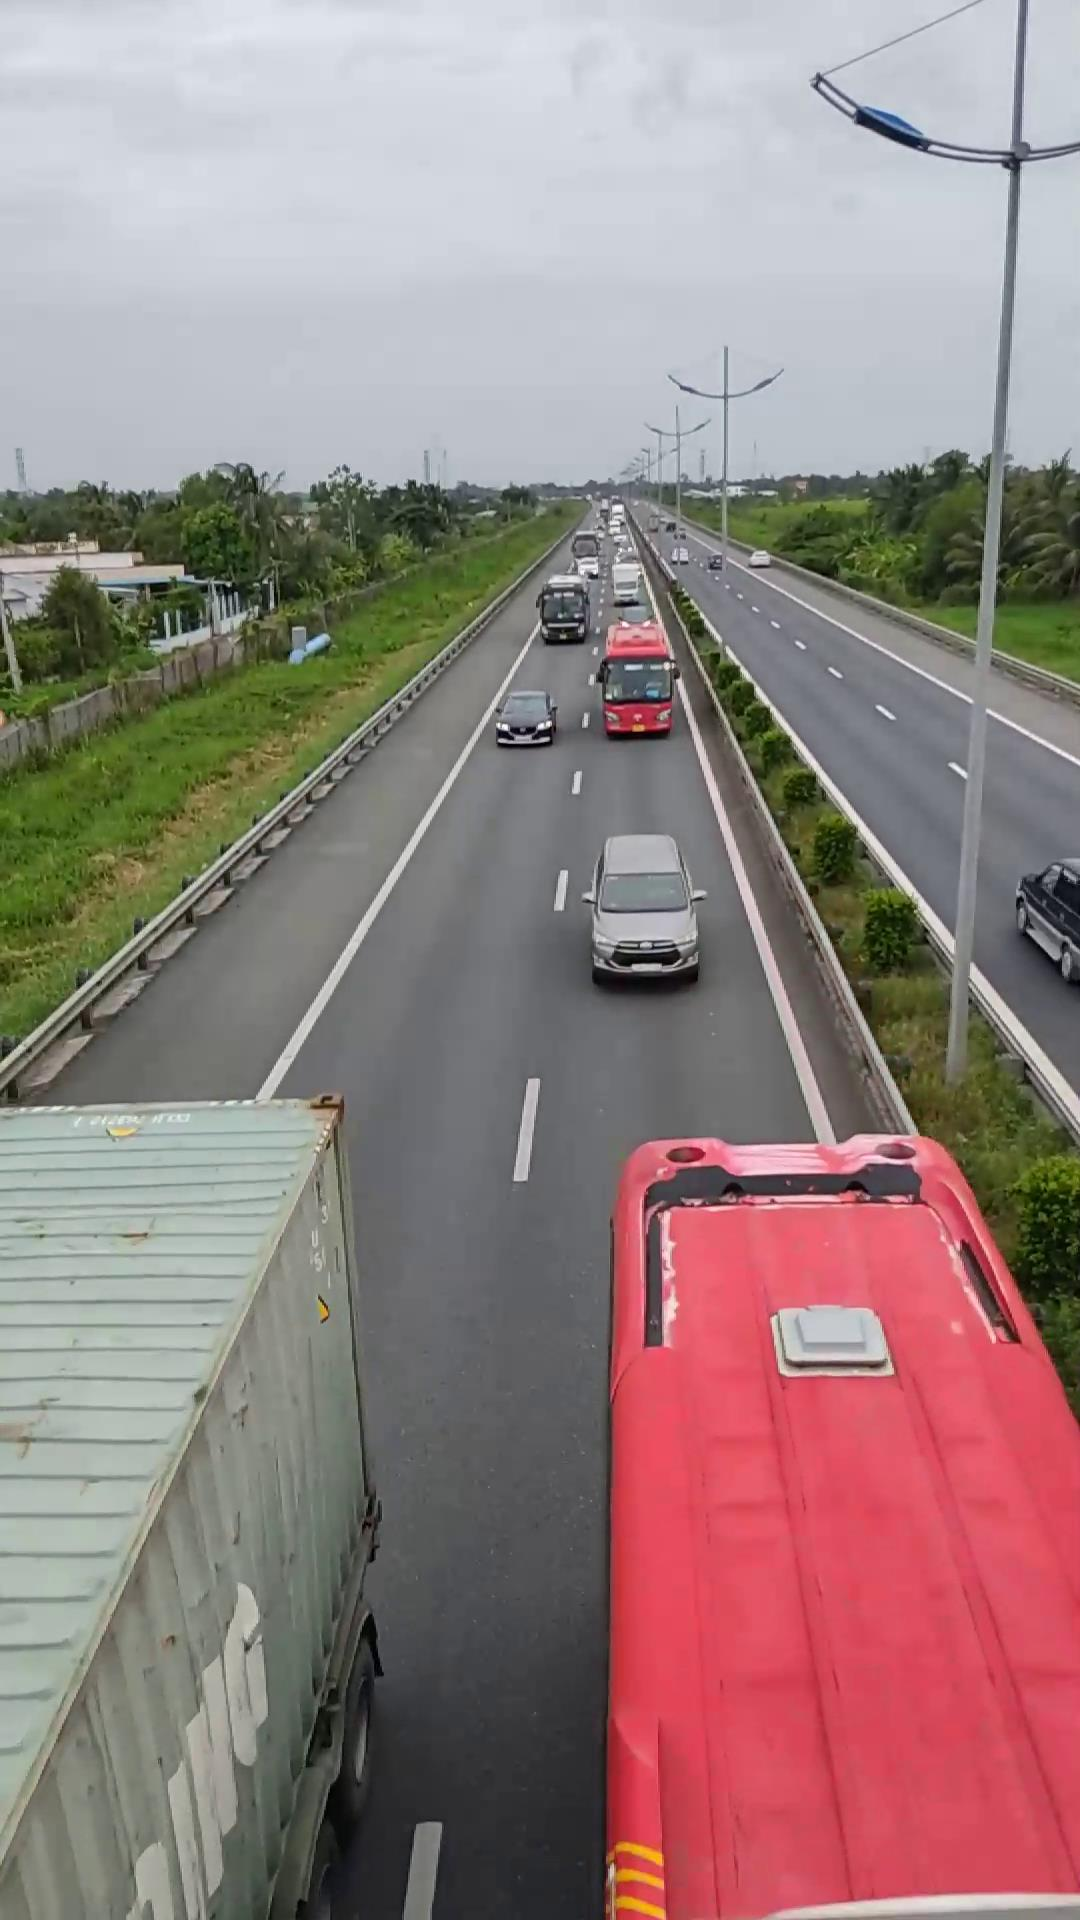bus: (611, 1131, 1077, 1905)
car: (580, 831, 703, 984)
container: (0, 1091, 397, 1917)
